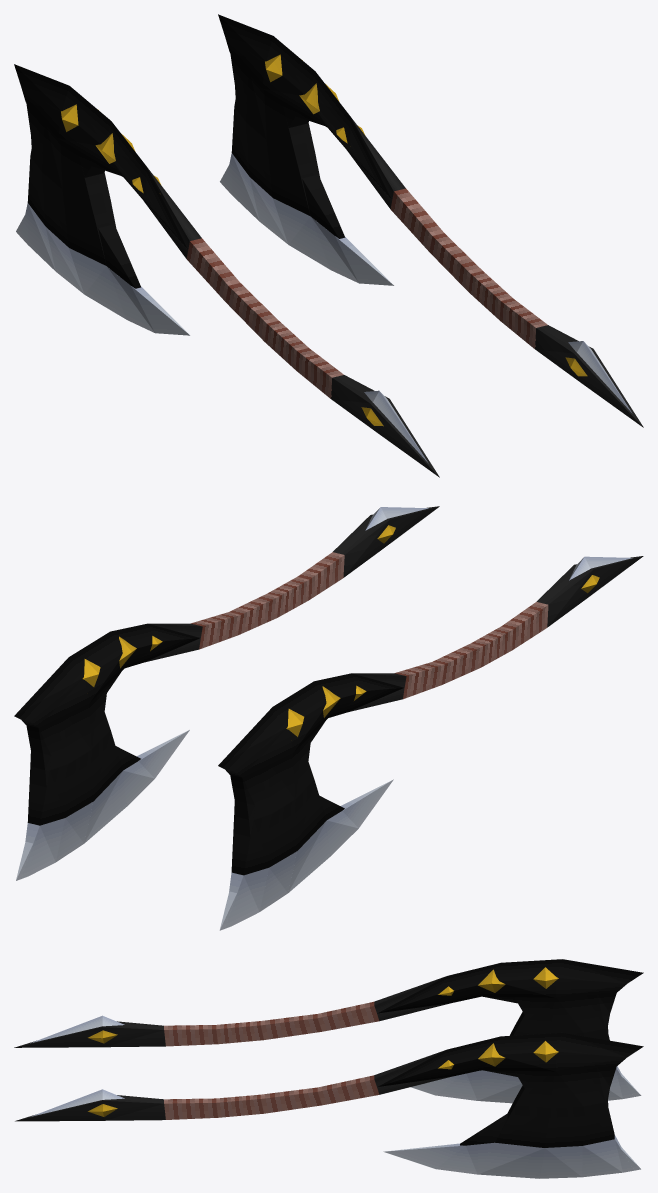
File: tormented_mind.glb
3 views of the same model, one above another, from view 1: azimuth 30°, elevation 25°; view 2: azimuth 150°, elevation 25°; view 3: azimuth 270°, elevation 25° (orthographic). The views are drawn at different scales.
Visible parts, largest first — view 1: off__Tool_L, main__Tool_R; view 2: main__Tool_R, off__Tool_L; view 3: main__Tool_R, off__Tool_L.
Boxes of the visible parts, x1,y1,x2,y2 form: off__Tool_L: [14, 64, 439, 477]; main__Tool_R: [218, 14, 643, 427]; main__Tool_R: [14, 506, 439, 880]; off__Tool_L: [218, 556, 643, 930]; main__Tool_R: [15, 1032, 643, 1178]; off__Tool_L: [14, 959, 643, 1103].
Bounding box in the file's own units: 1.11 × 0.8682 × 3.39.
1 material, 1 textured.
